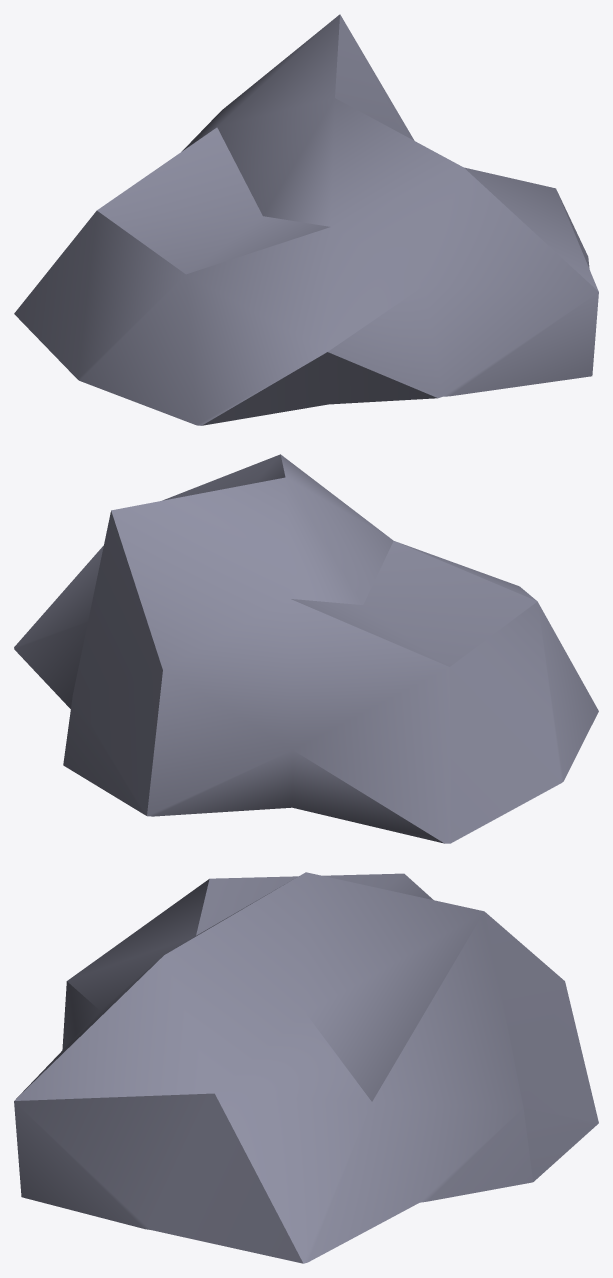
File: Rock1.fbx
The picture shows the model from 3 angles, top to bottom: view 1: azimuth 30°, elevation 25°; view 2: azimuth 150°, elevation 25°; view 3: azimuth 270°, elevation 25°; orthographic projection. The views are drawn at different scales.
Visible parts, largest first — view 1: Rock_1; view 2: Rock_1; view 3: Rock_1.
Part boxes in pixels (x1,y1,x2,y2): Rock_1: [14, 14, 598, 425]; Rock_1: [14, 454, 598, 843]; Rock_1: [14, 872, 598, 1263].
Size of the model in its own units: 222 by 94.1 by 193.
